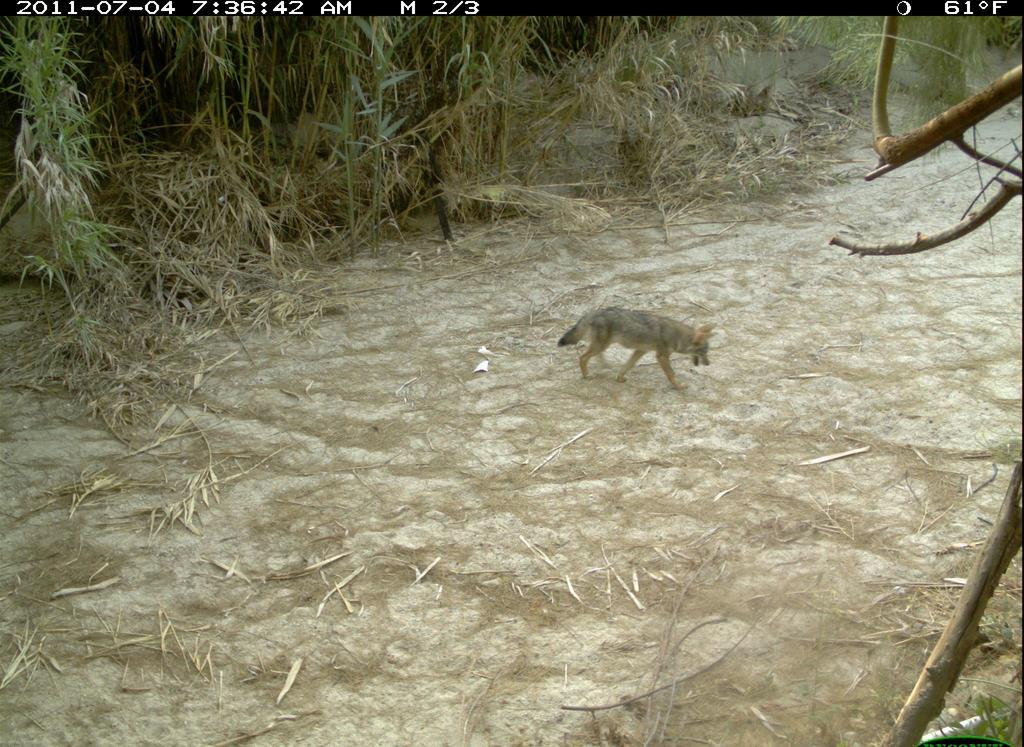coyote: (551, 282, 719, 404)
